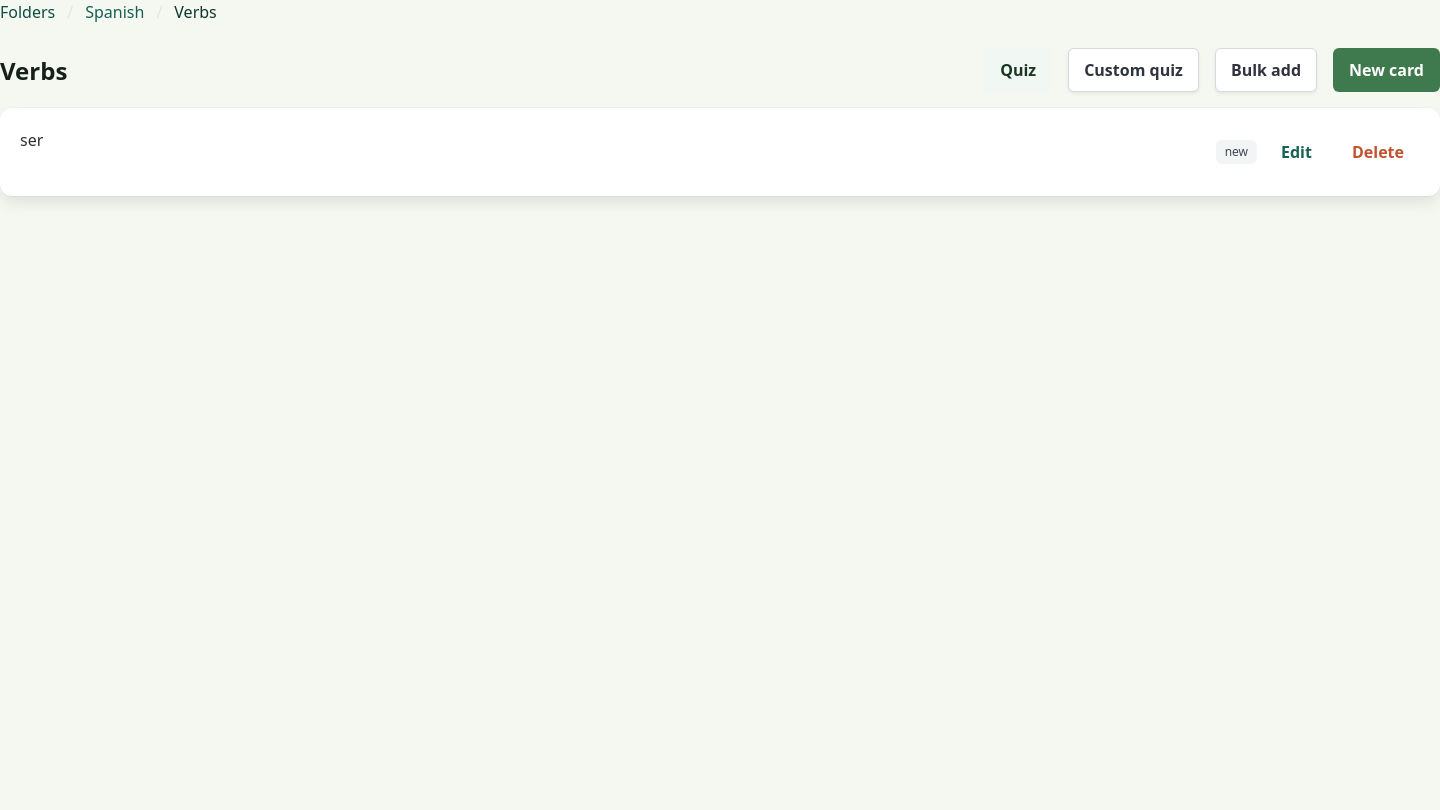
Test: DeckView › deletes the card once the confirmation is accepted
Click the button with test id "card-delete" at (1378, 152), box x1=1336 y1=130 x2=1420 y2=174
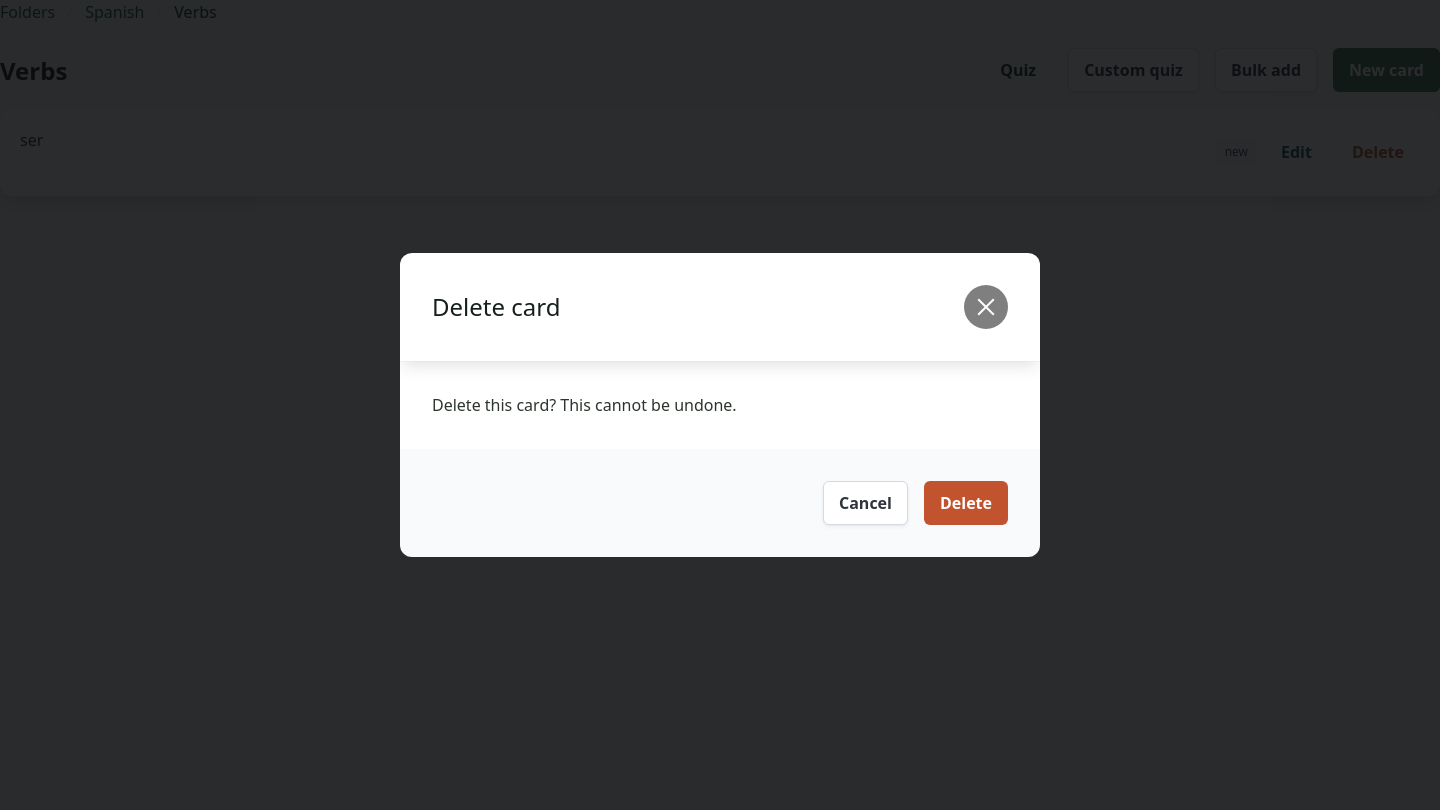
Click the button with test id "confirm-accept" at (966, 503), box x1=924 y1=481 x2=1008 y2=525
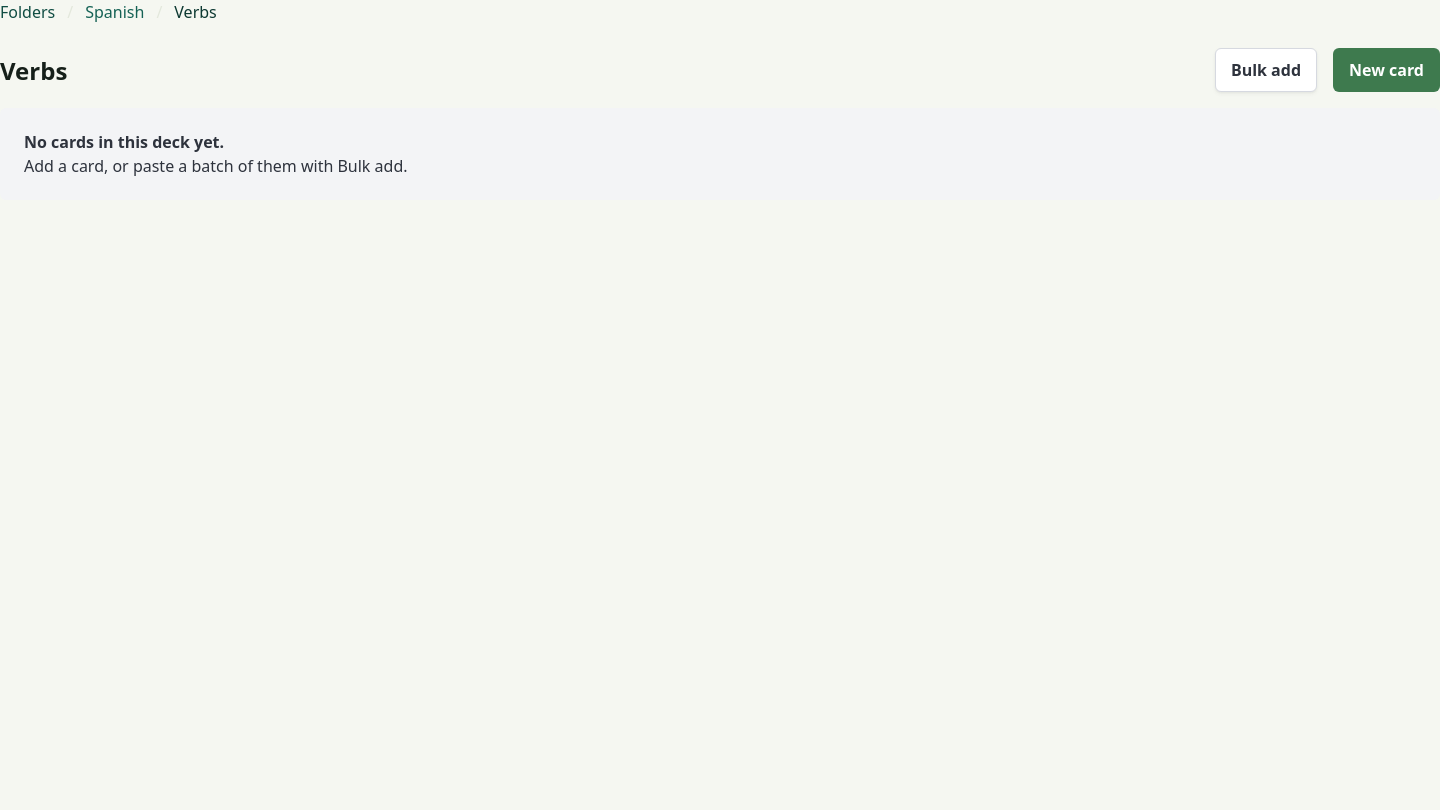
Expected: no elements with test id "card-row" are shown
